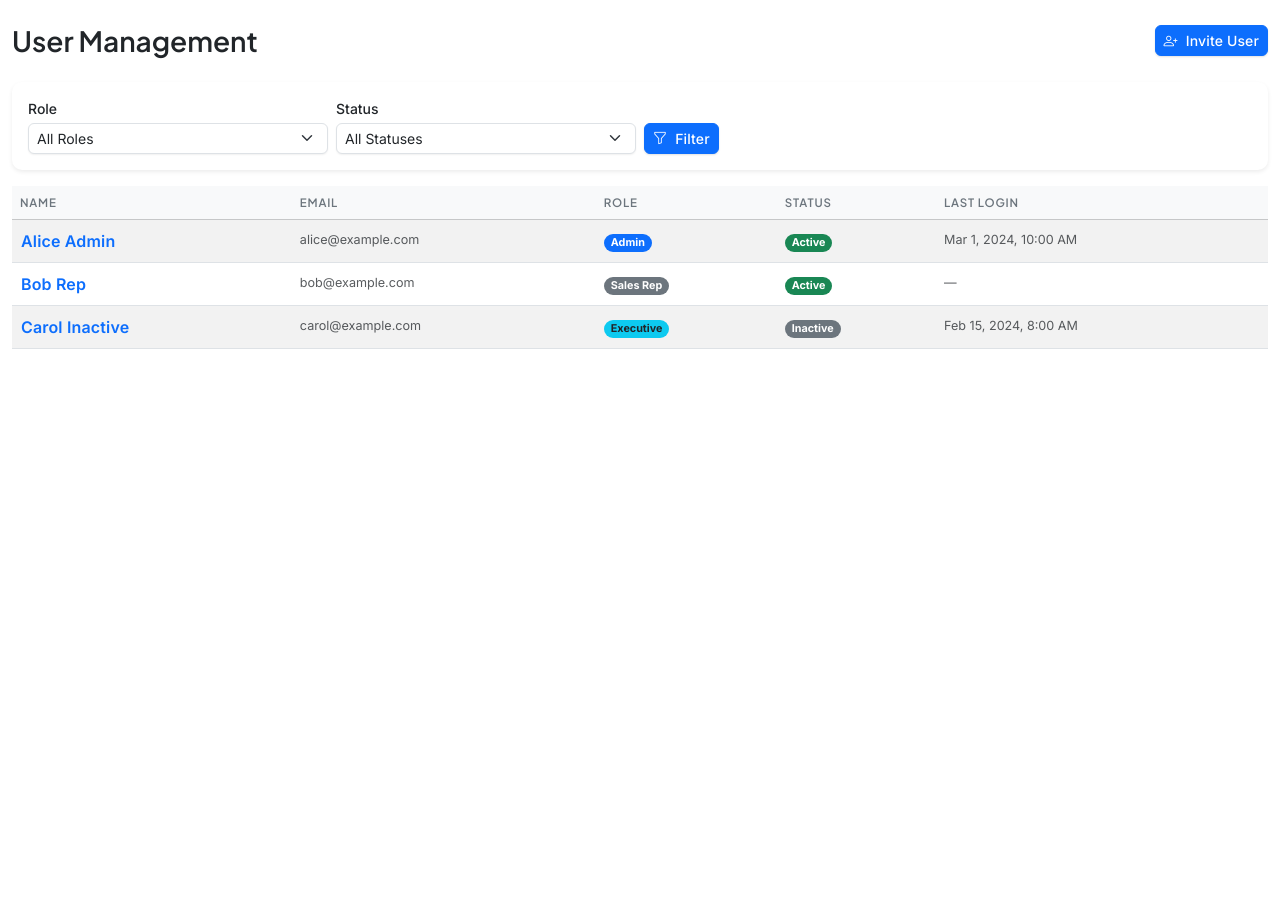
Test: view drawer › opens when user name button is clicked
Click the button with aria-label "view user bob rep" at (54, 284), box [20,271,87,297]
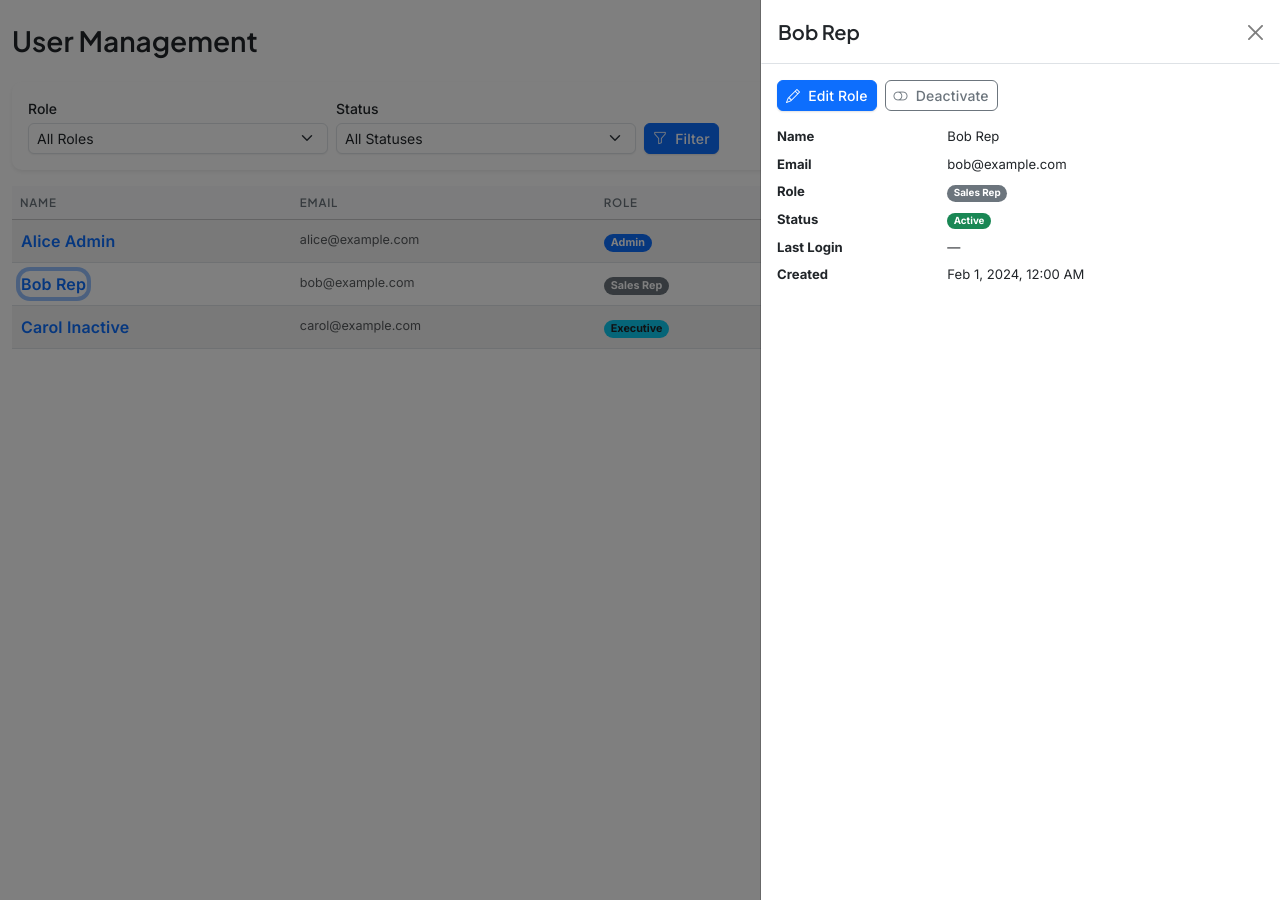
Check: the dialog "Bob Rep" is shown, box [760,0,1279,899]
